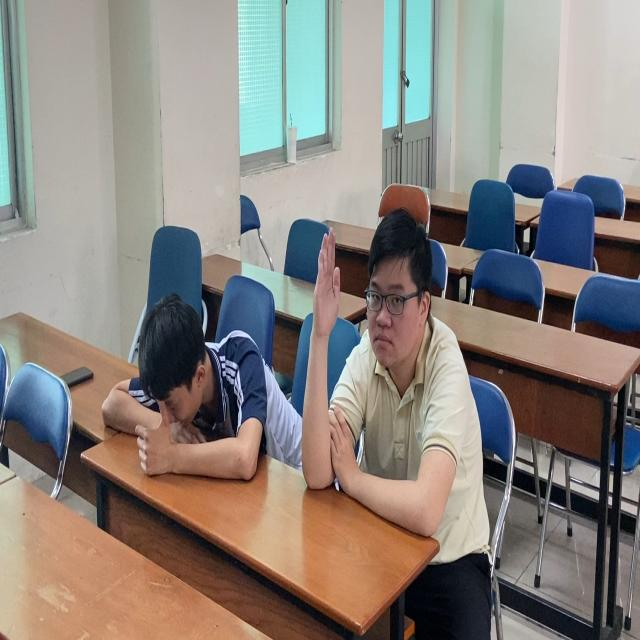raise_hand: (302, 216, 467, 540)
